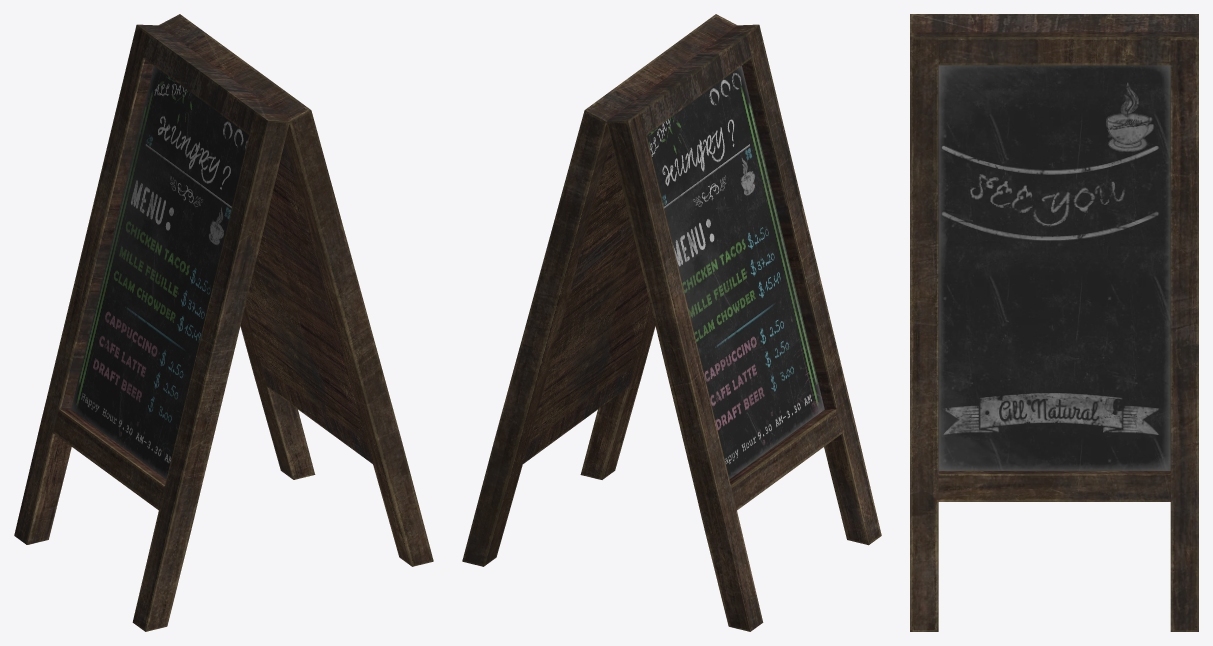
File: welcome_sign_restaurant.glb
3 views of the same model, side by side, from view 1: azimuth 30°, elevation 25°; view 2: azimuth 150°, elevation 25°; view 3: azimuth 270°, elevation 25° (orthographic). The views are drawn at different scales.
Visible parts, largest first — view 1: SM_Welcome_Sign_Restourant_T_floor_sign_1001_0; view 2: SM_Welcome_Sign_Restourant_T_floor_sign_1001_0; view 3: SM_Welcome_Sign_Restourant_T_floor_sign_1001_0.
Part boxes in pixels (x1=…): SM_Welcome_Sign_Restourant_T_floor_sign_1001_0: x1=14, y1=14, x2=433, y2=631; SM_Welcome_Sign_Restourant_T_floor_sign_1001_0: x1=462, y1=14, x2=881, y2=631; SM_Welcome_Sign_Restourant_T_floor_sign_1001_0: x1=910, y1=14, x2=1198, y2=631.
Bounding box in the file's own units: 0.6583 × 1.05 × 0.5197.
Materials: 1 (1 with a texture image).
